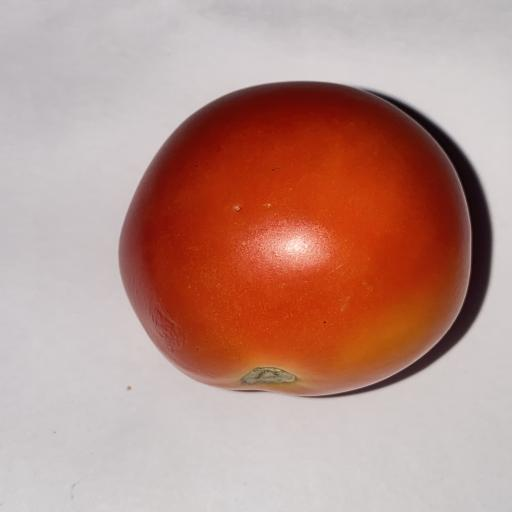ripe: (120, 82, 471, 396)
